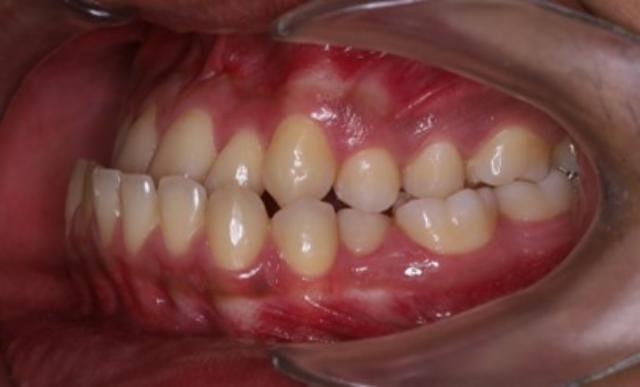canine class III 1/4: (206, 108, 340, 280)
molar class III full class: (388, 118, 578, 258)
